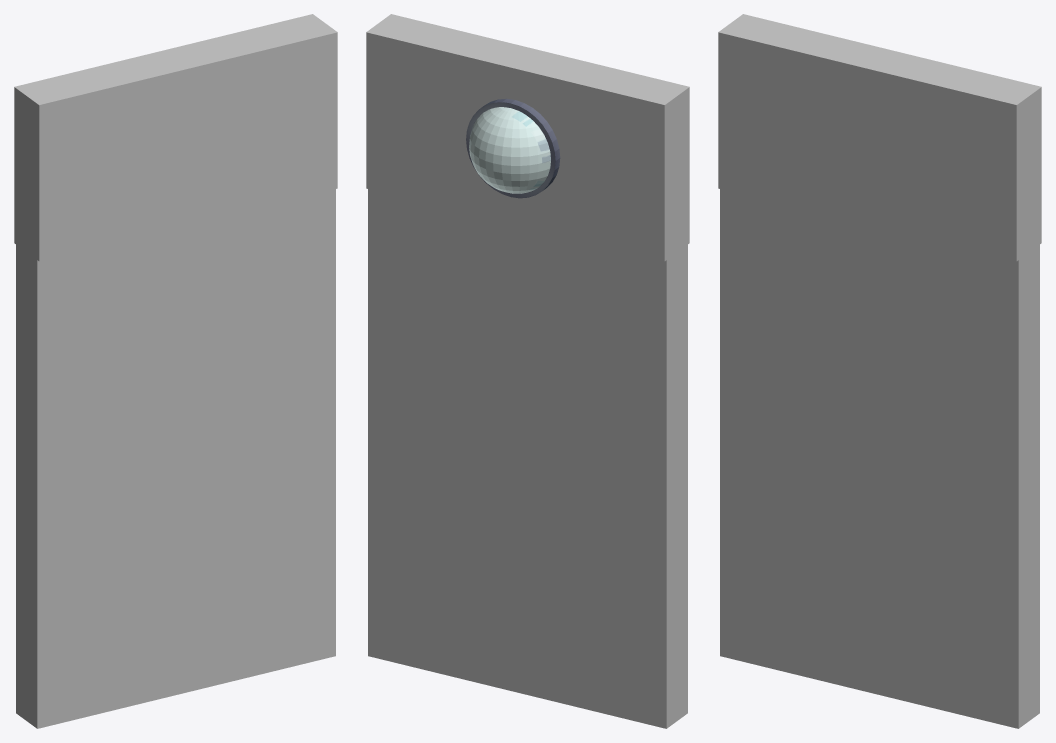
The model's file is walldoor.fbx.
3 views of the same model, side by side, from view 1: azimuth 30°, elevation 25°; view 2: azimuth 150°, elevation 25°; view 3: azimuth 330°, elevation 25° (orthographic).
Parts seen in each view (by area): view 1: WallDoor, AboveDoor; view 2: WallDoor, AboveDoor, Light, Ring; view 3: WallDoor, AboveDoor.
Part boxes in pixels (<box>): WallDoor: <box>16,189,335,728</box>; AboveDoor: <box>14,14,337,261</box>; WallDoor: <box>368,189,687,728</box>; AboveDoor: <box>366,14,689,261</box>; Light: <box>469,107,550,193</box>; Ring: <box>466,98,560,198</box>; WallDoor: <box>720,189,1039,728</box>; AboveDoor: <box>718,14,1041,261</box>.
Bounding box in the file's own units: 200 × 400 × 55.
